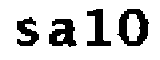0: (117, 6, 150, 52)
1: (81, 6, 112, 49)
a: (46, 17, 76, 50)
s: (13, 17, 39, 47)
